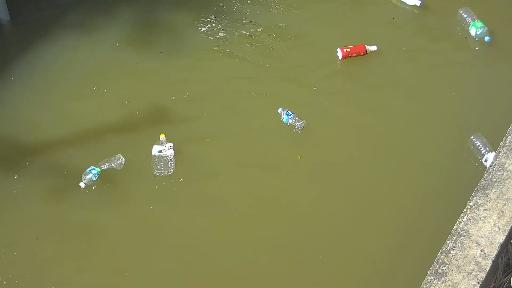plastic: (448, 4, 510, 54), (59, 147, 123, 187), (140, 134, 188, 178), (270, 96, 323, 134), (458, 123, 499, 166), (322, 42, 389, 61), (378, 0, 438, 16)
